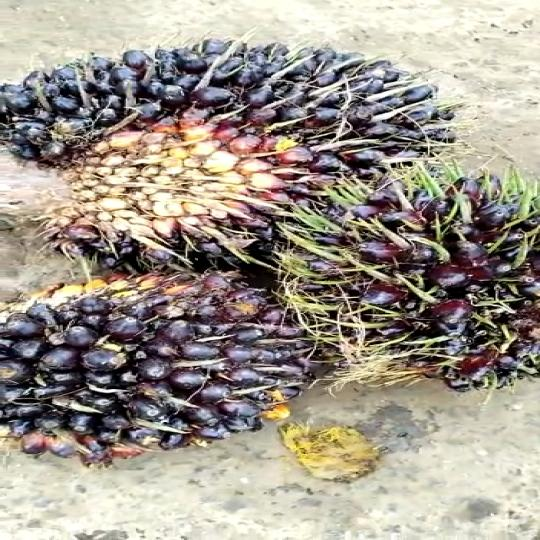mentah: (0, 29, 459, 284), (0, 261, 334, 474), (287, 167, 540, 399)
